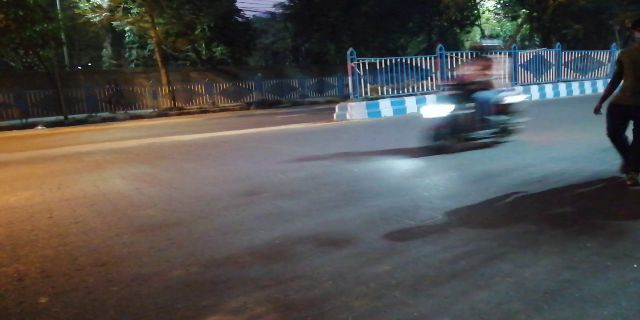Motorbike: (419, 41, 521, 147)
